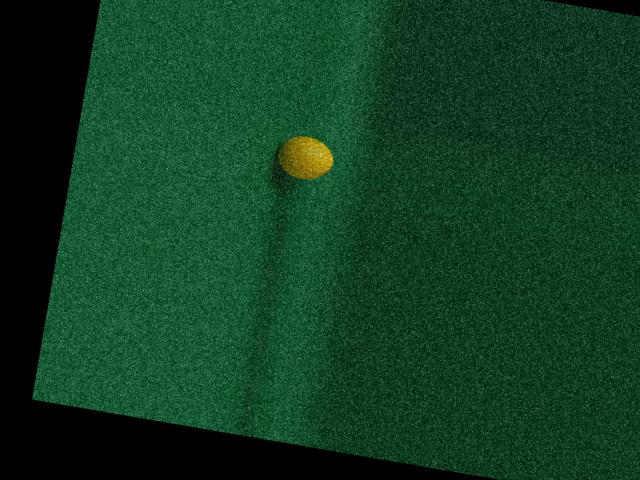egg: (274, 131, 337, 182)
